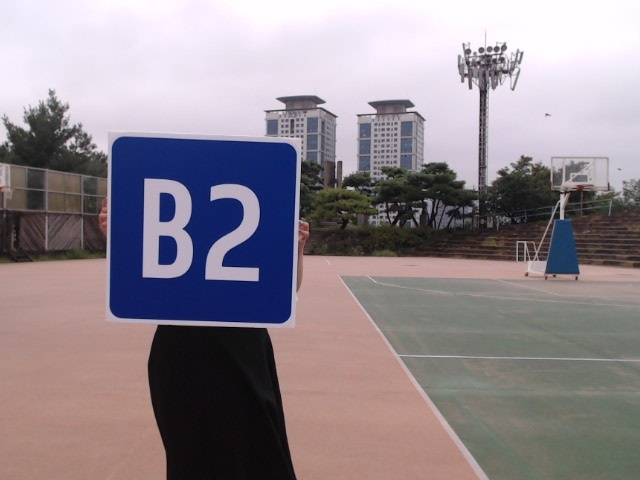delivery_b2: (108, 134, 299, 325)
